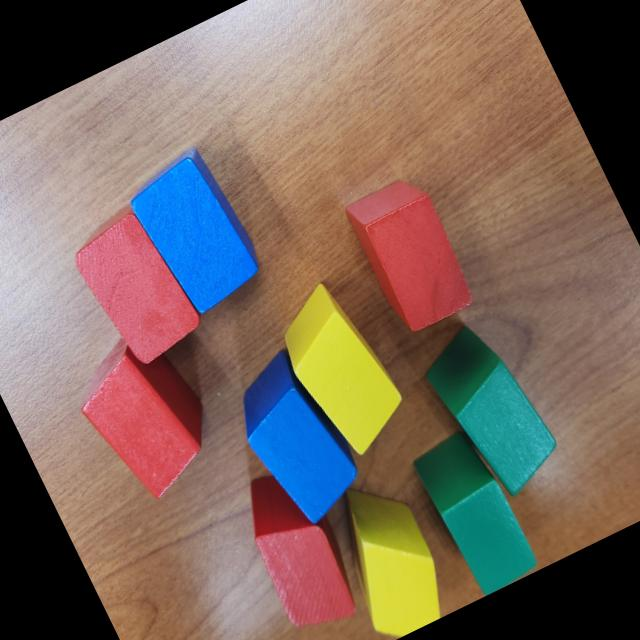blue: (217, 339, 376, 536), (120, 142, 272, 322)
green: (413, 311, 570, 509), (407, 423, 542, 599)
red: (60, 317, 234, 514), (224, 457, 368, 640), (65, 202, 212, 378), (341, 170, 482, 340)
yellow: (264, 272, 418, 465), (312, 468, 458, 640)
